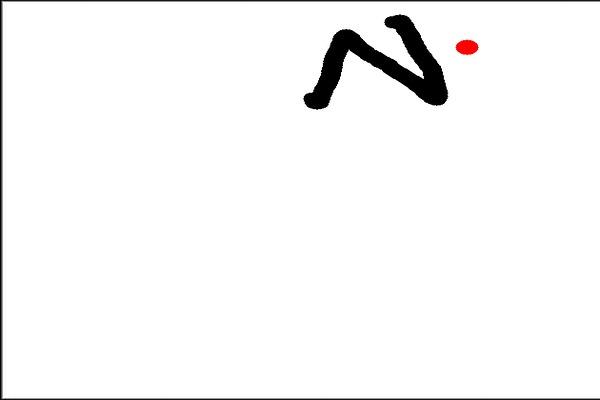N: (293, 8, 454, 121)
